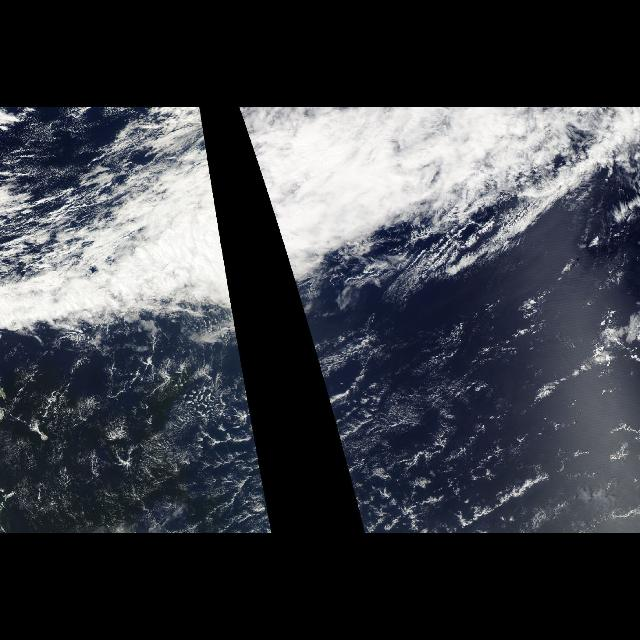Gravel: (3, 115, 173, 251)
Sugar: (1, 365, 272, 533), (314, 366, 364, 528)
